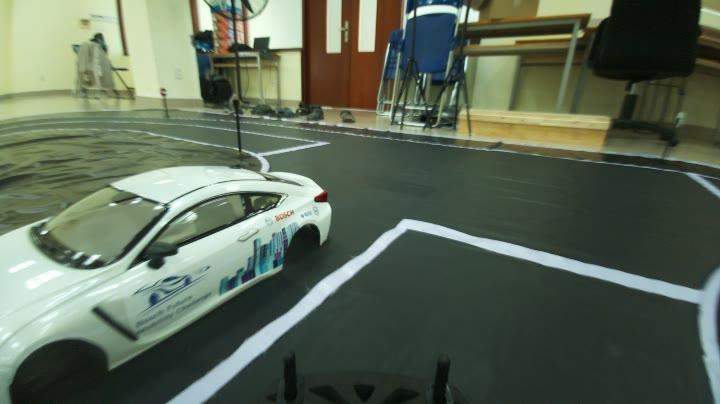car: (1, 158, 332, 397)
